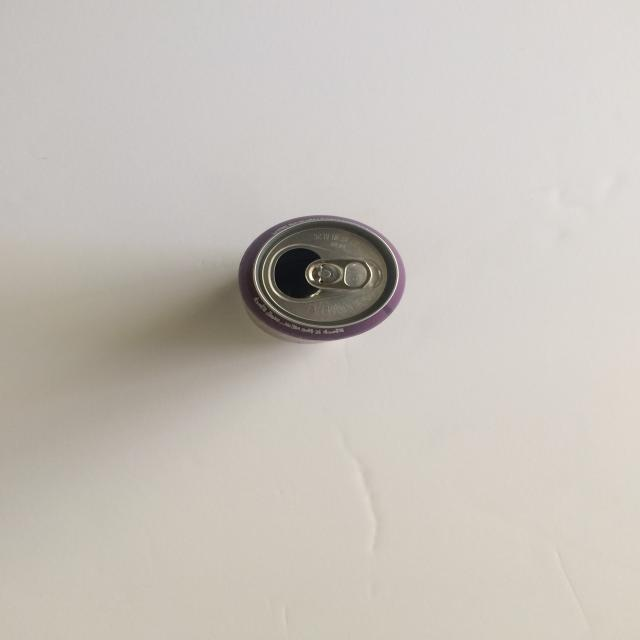metal: (238, 214, 407, 344)
